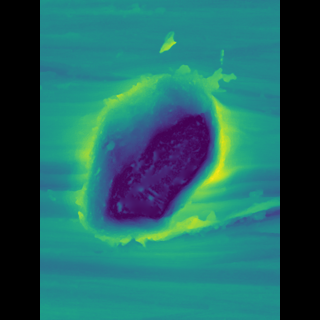Loch: (84, 68, 220, 258)
